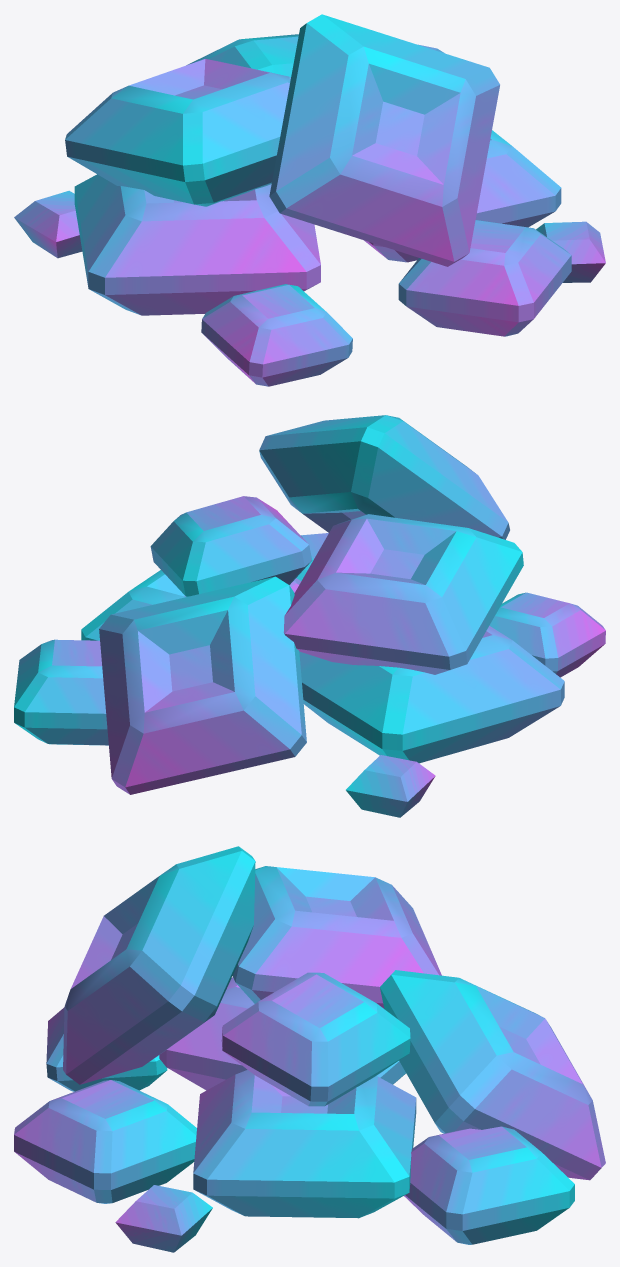
File: gems-pile-large.glb
The picture shows the model from 3 angles, top to bottom: view 1: azimuth 30°, elevation 25°; view 2: azimuth 150°, elevation 25°; view 3: azimuth 270°, elevation 25°; orthographic projection. The views are drawn at different scales.
Visible parts, largest first — view 1: Gems_Pile_Large; view 2: Gems_Pile_Large; view 3: Gems_Pile_Large.
Boxes of the visible parts, <box> form: Gems_Pile_Large: <box>14,14,605,386</box>; Gems_Pile_Large: <box>14,415,605,817</box>; Gems_Pile_Large: <box>14,846,605,1252</box>.
Bounding box in the file's own units: 1.35 × 0.7591 × 1.42.
Materials: 1 (1 with a texture image).
